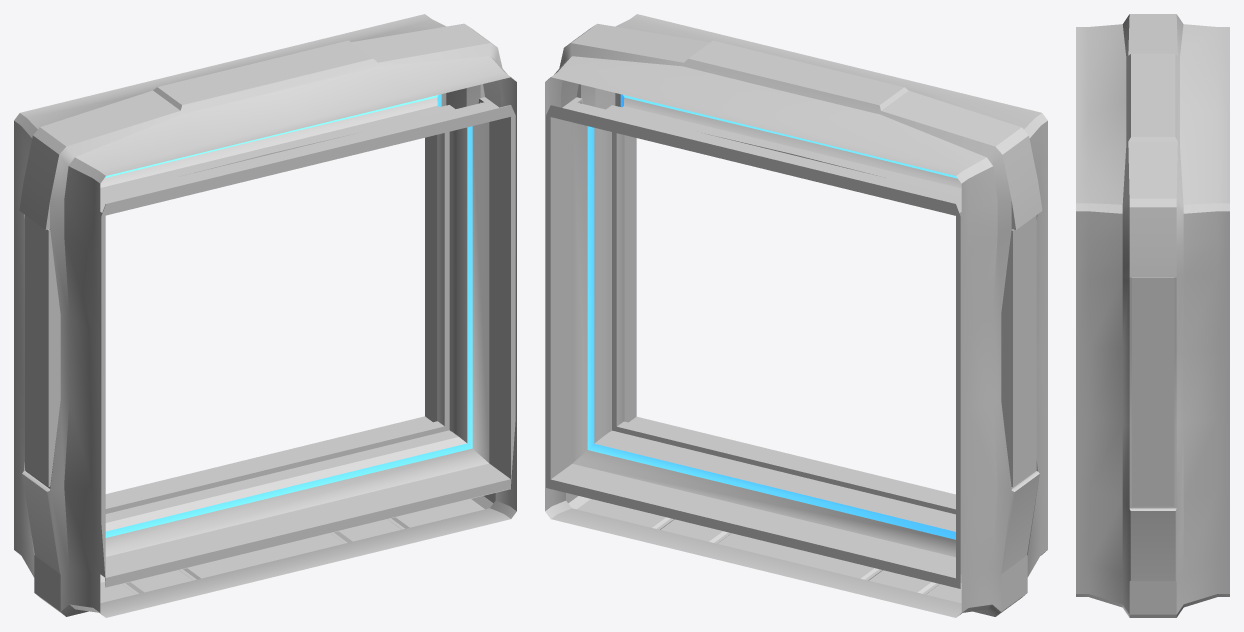
Rendered from spaceDock small segment.fbx.
3 views of the same model, side by side, from view 1: azimuth 30°, elevation 25°; view 2: azimuth 150°, elevation 25°; view 3: azimuth 270°, elevation 25° (orthographic). The views are drawn at different scales.
Parts seen in each view (by area): view 1: spaceDock small segment; view 2: spaceDock small segment; view 3: spaceDock small segment.
Boxes of the visible parts, x1=… form: spaceDock small segment: x1=14, y1=14, x2=516, y2=617; spaceDock small segment: x1=545, y1=14, x2=1047, y2=617; spaceDock small segment: x1=1076, y1=14, x2=1229, y2=617.
Size of the model in its own units: 468 by 466 by 150.
